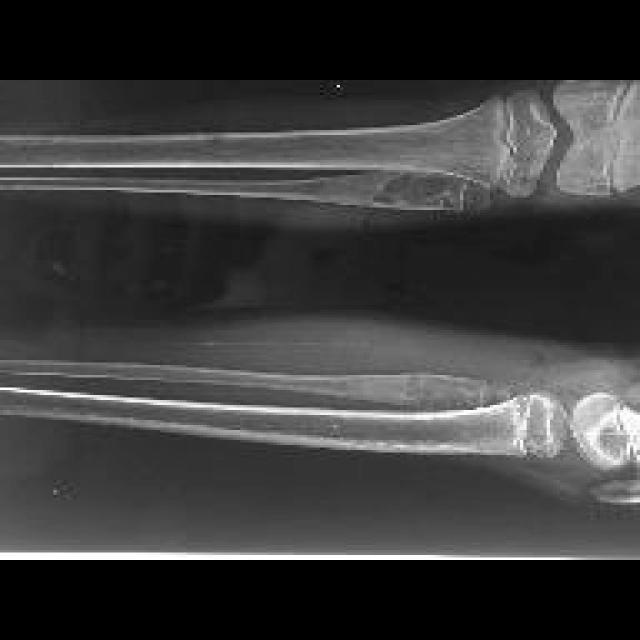bone-cancer: (347, 172, 492, 212), (345, 374, 505, 409)
